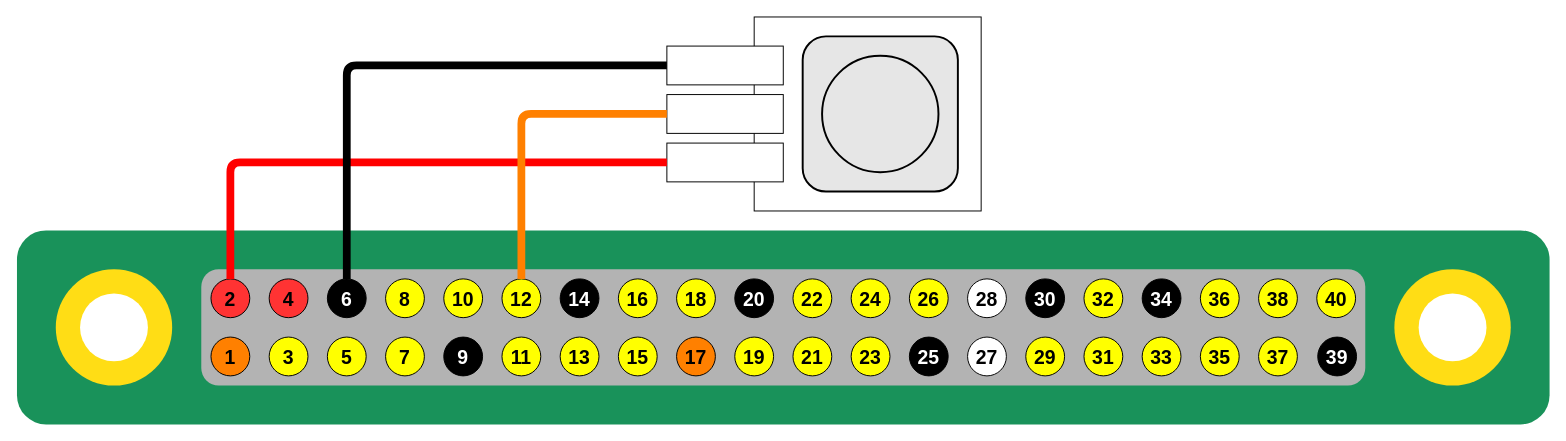
The diagram is 1566 pixels wide and 441 high, and some of its shapes have lost their labels. Here are the shapes that lost their labels. From the top down, the centre of each, then its label:
At point (724, 65): "GND".
At point (724, 113): "IO".
At point (724, 162): "VCC".
